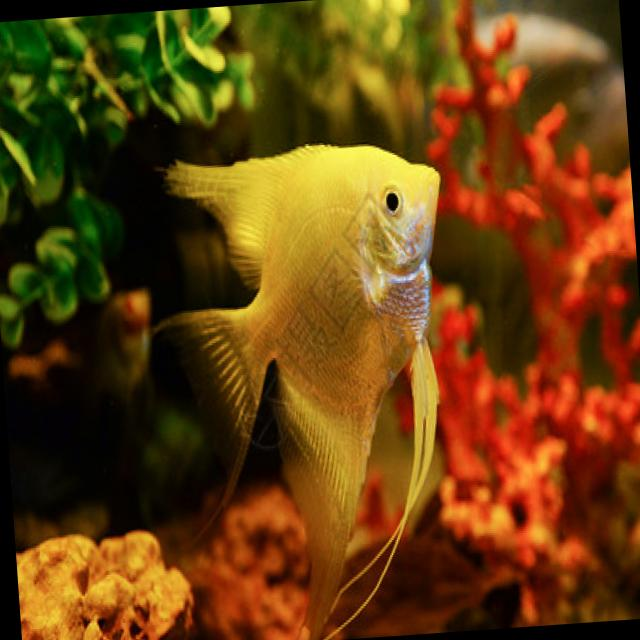AngelFish: (148, 142, 472, 638)
